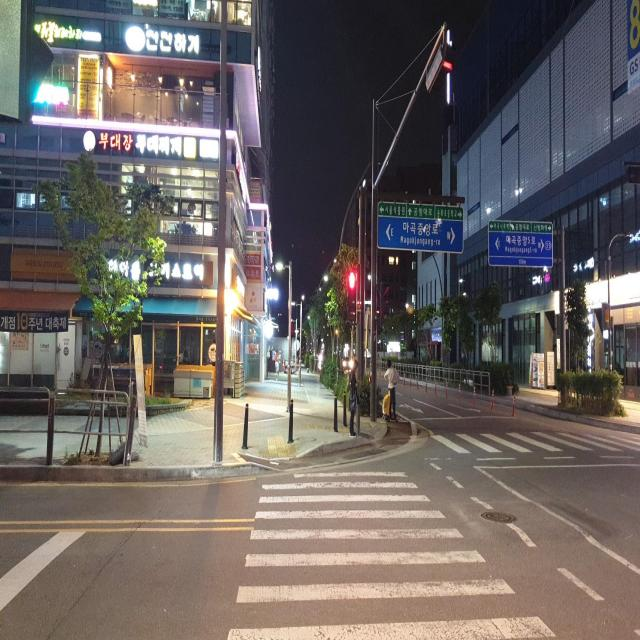횡단보도: (227, 470, 556, 640), (434, 427, 640, 459), (347, 271, 359, 311)
